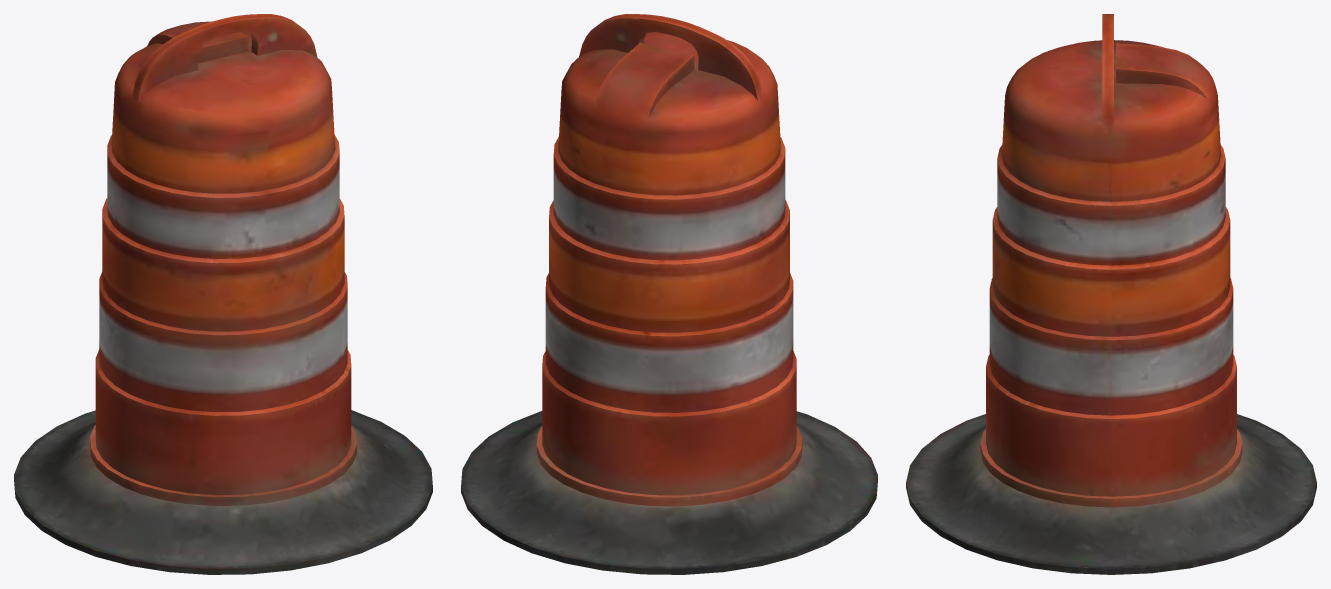
File: SM_Plastic_barrier_11_03ed64.glb
3 renders of one model, left to right at view 1: azimuth 30°, elevation 25°; view 2: azimuth 150°, elevation 25°; view 3: azimuth 270°, elevation 25°, orthographic. The views are drawn at different scales.
Bounding box in the file's own units: 0.8776 × 1.08 × 0.8776.
1 material, 1 textured.
